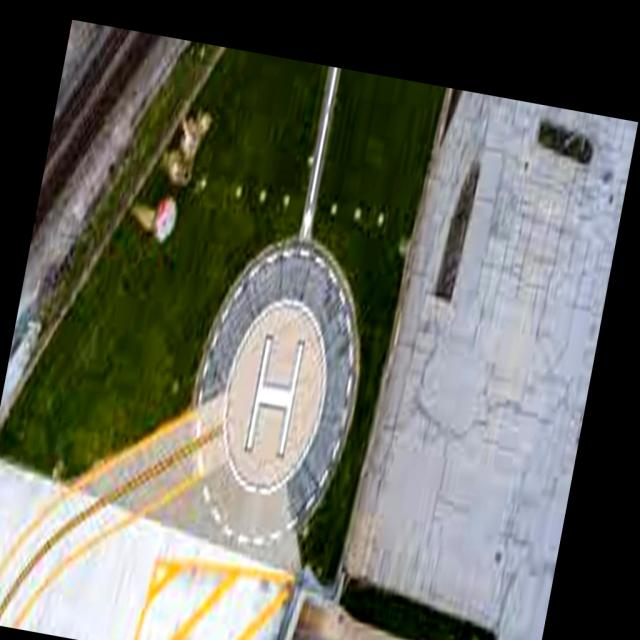helipad: (220, 291, 330, 497)
